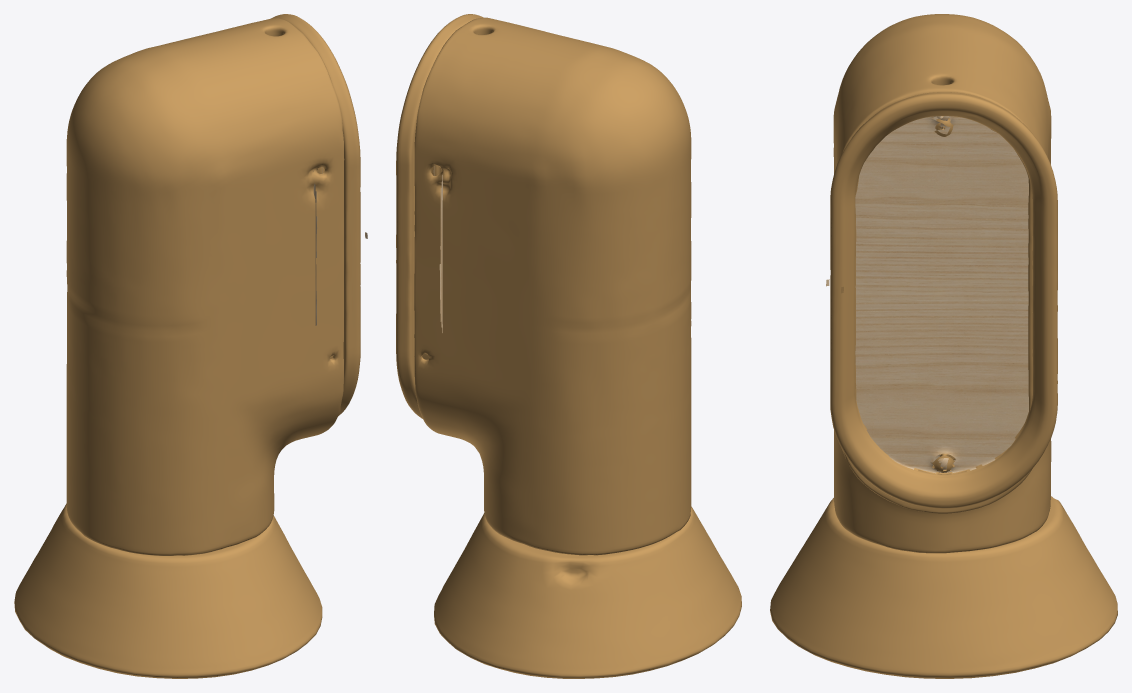
The model's file is kultist.glb.
3 views of the same model, side by side, from view 1: azimuth 30°, elevation 25°; view 2: azimuth 150°, elevation 25°; view 3: azimuth 270°, elevation 25° (orthographic). The views are drawn at different scales.
Visible parts, largest first — view 1: tripo_part_0, tripo_part_1, Oval_Frame_Face; view 2: tripo_part_0, tripo_part_1, Oval_Frame_Face; view 3: Oval_Lens, tripo_part_1, tripo_part_0, Oval_Frame_Face.
Part boxes in pixels (bbox=[...]): tripo_part_0: bbox=[66, 18, 344, 555]; tripo_part_1: bbox=[14, 503, 322, 678]; Oval_Frame_Face: bbox=[271, 14, 360, 415]; tripo_part_0: bbox=[414, 17, 691, 555]; tripo_part_1: bbox=[434, 506, 741, 678]; Oval_Frame_Face: bbox=[396, 14, 483, 418]; Oval_Lens: bbox=[826, 116, 1028, 473]; tripo_part_1: bbox=[770, 496, 1117, 678]; tripo_part_0: bbox=[833, 14, 1051, 553]; Oval_Frame_Face: bbox=[830, 92, 1057, 508].
Bounding box in the file's own units: 0.1969 × 0.3887 × 0.2051.
3 materials, 2 textured.
